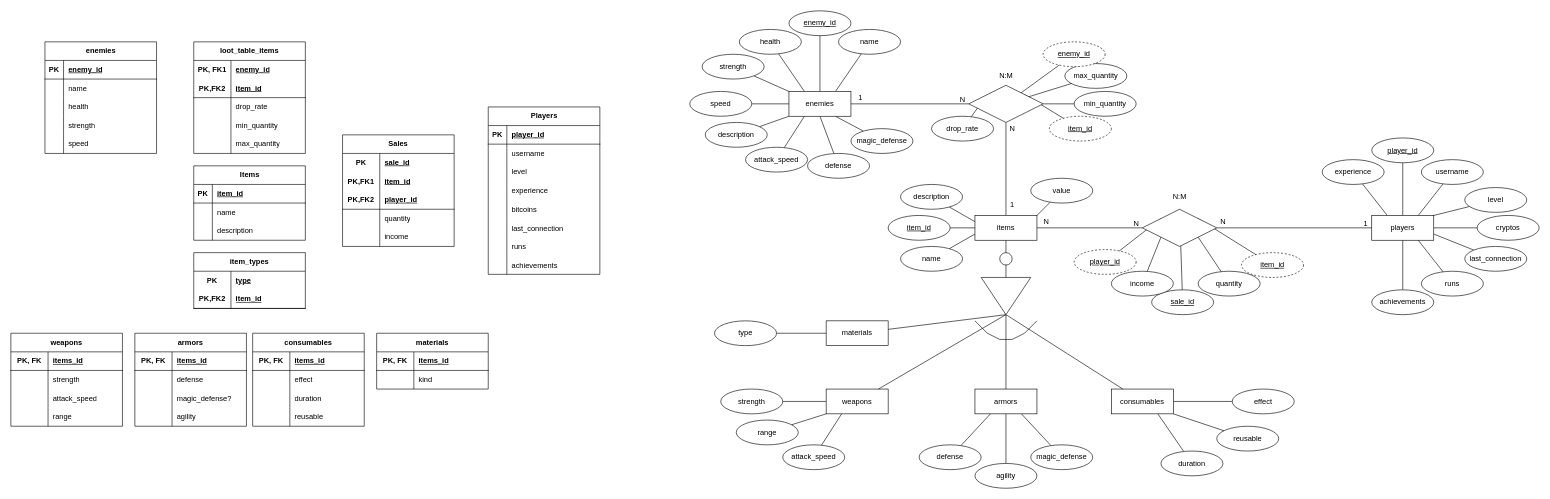
Image size: 1550x499. Some labels were removed from this diagram. Here are the shapes that lost their labels. From the top down, the centre of each, then its label:
At pixel 1005 103: "drops".
At pixel 1179 227: "sells".
At pixel 1006 296: "Is_a".
